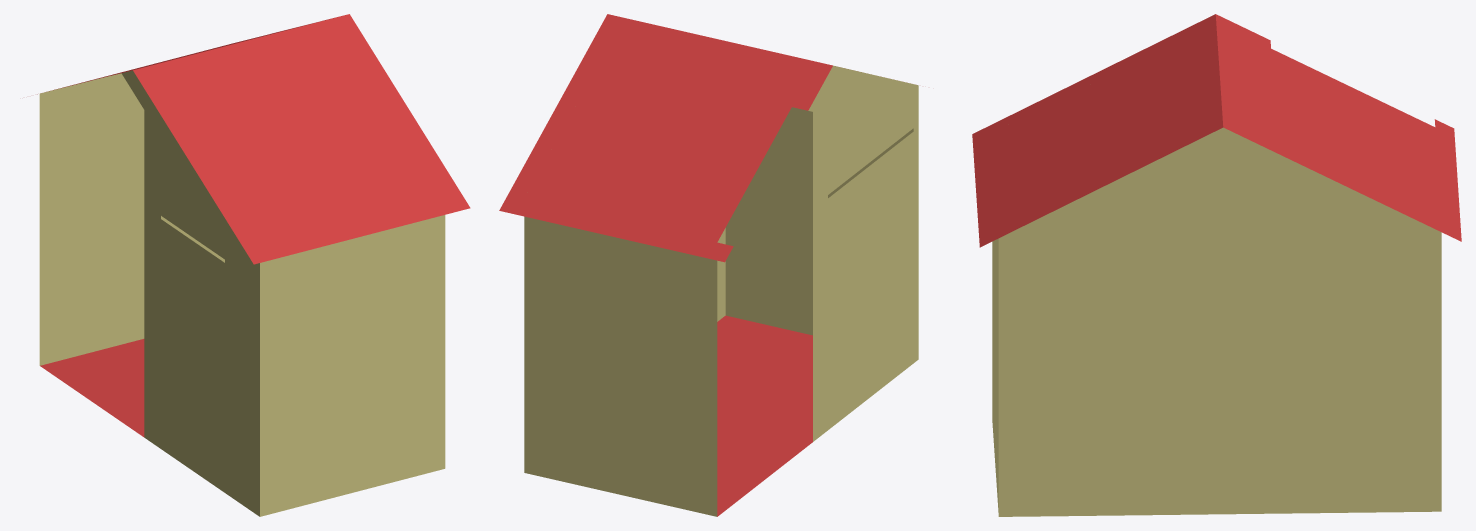
3 renders of one model, left to right at view 1: azimuth 30°, elevation 25°; view 2: azimuth 150°, elevation 25°; view 3: azimuth 270°, elevation 25°, orthographic. The views are drawn at different scales.
Size of the model in its own units: 7.23 by 12.55 by 11.18.
